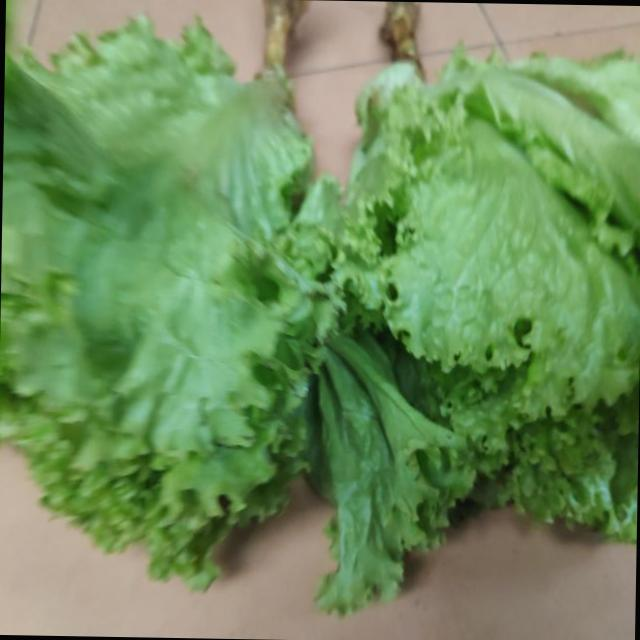Lettuce-Ready-to-Harvest: (0, 19, 339, 587), (316, 54, 640, 611)
